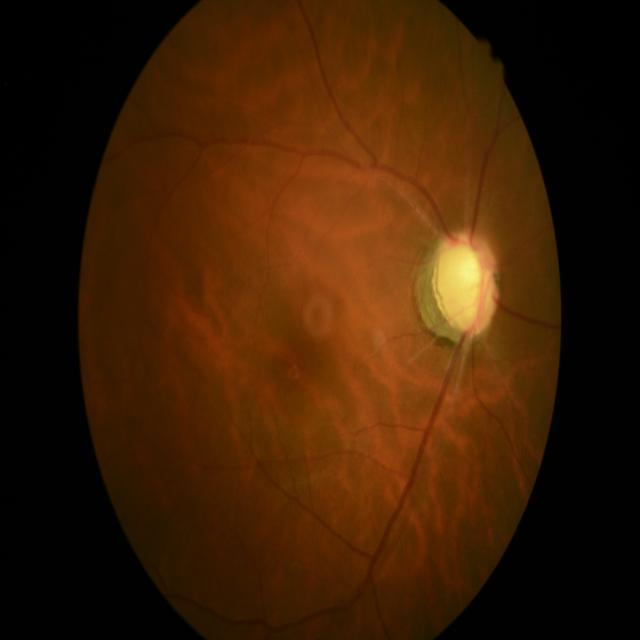cup: (440, 242, 492, 331)
disk: (432, 228, 501, 337)
